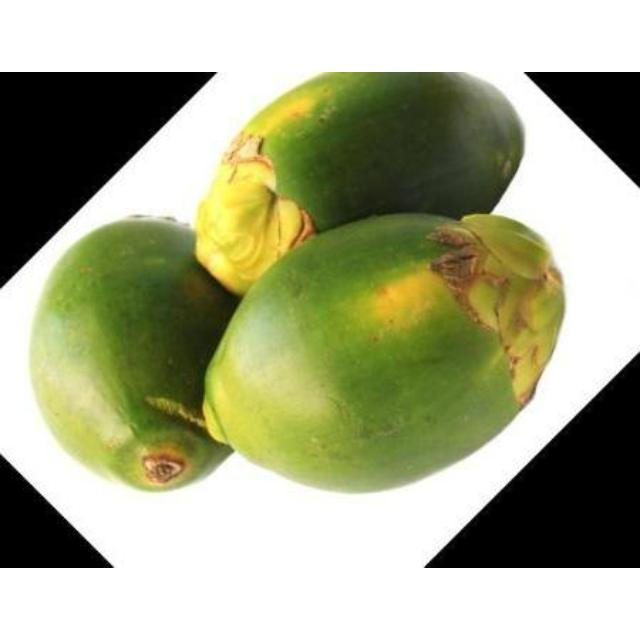good: (201, 213, 566, 497), (195, 72, 525, 298), (23, 214, 242, 497)
